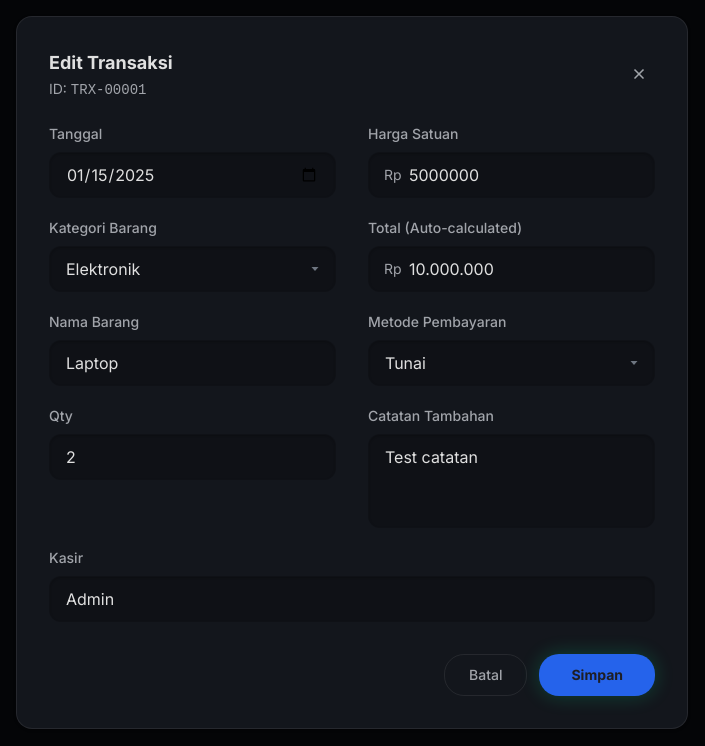
Test: Task 9 — Unit Tests: EditTransactionModal › 9.6: tombol Simpan disabled ketika qty < 1 setelah submit
The image size is (705, 746).
Replace the text in the number field with id "edit-qty" with "0" at [192, 456], box x1=49 y1=434 x2=336 y2=480
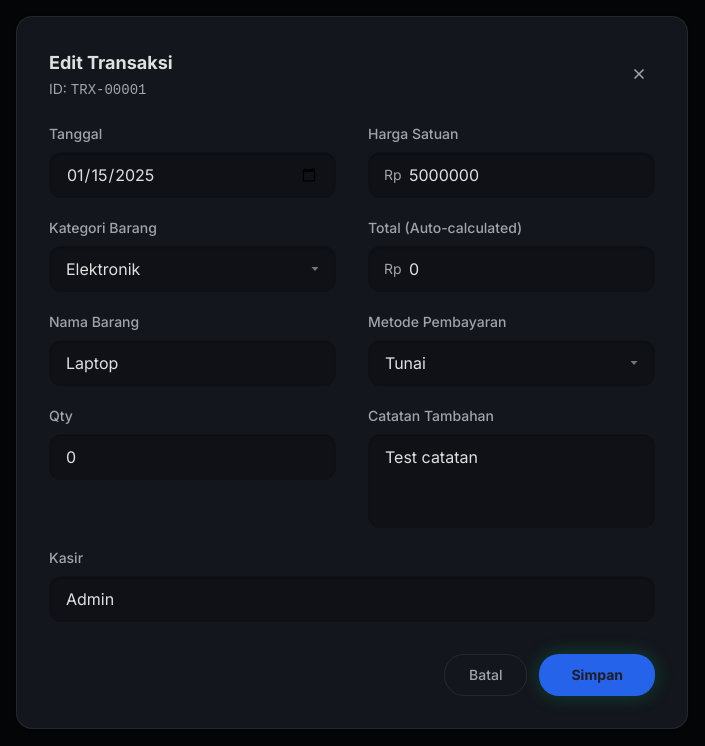
Submit form untuk trigger validasi
Submit the form with id "form-edit-transaksi"
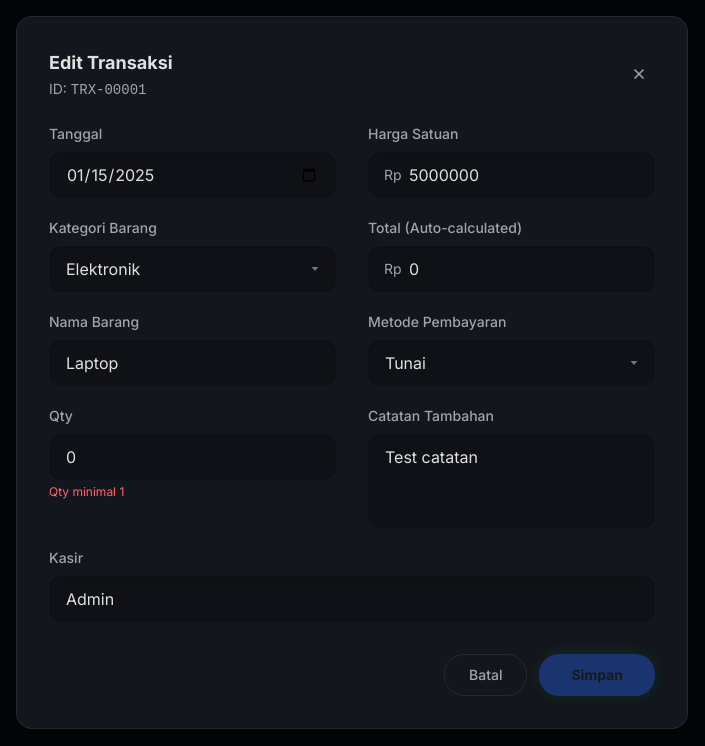
Check: the button "Simpan" is disabled, box x1=540 y1=654 x2=655 y2=696
